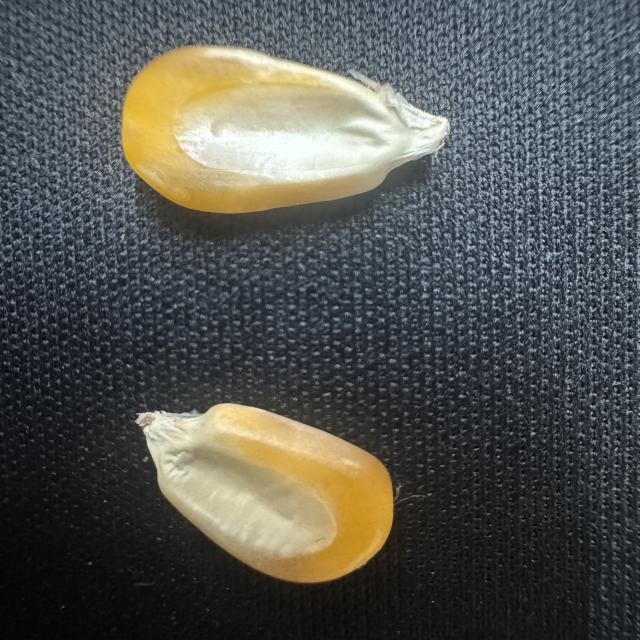Good-Seed: (116, 41, 457, 216), (132, 398, 402, 587)
